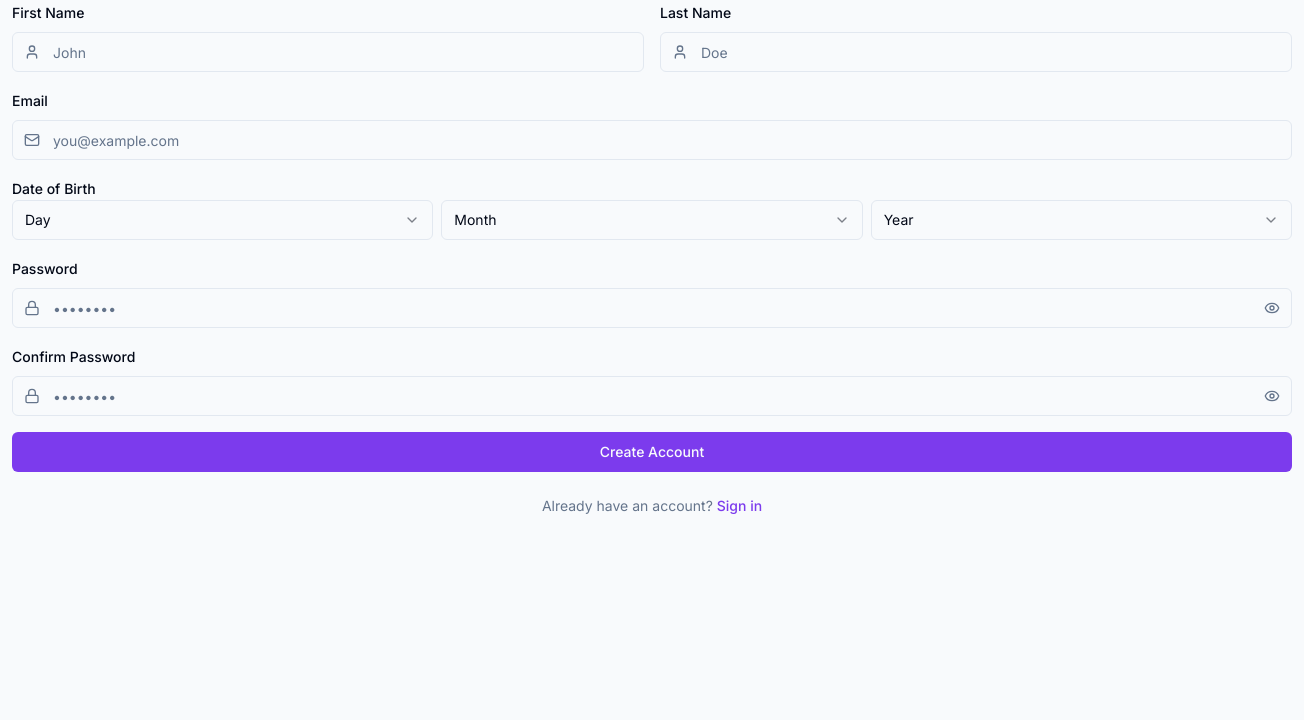
Test: SignupForm › should show an error if passwords do not match
This screenshot has width=1304, height=720.
In the password field labelled "Password": (652,308) [12,288,1292,328], type "Password123!"
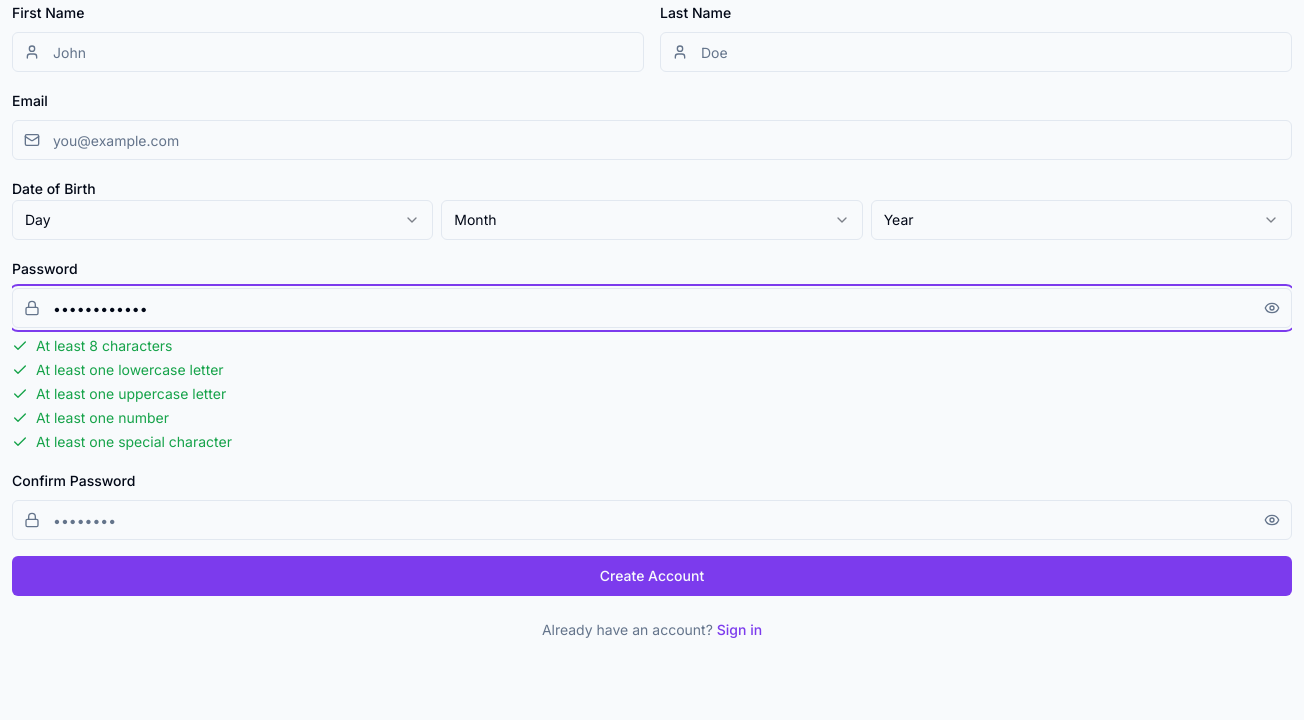
In the password field labelled "Confirm Password": (652,520) [12,500,1292,540], type "PasswordDoesNotMatch123!"
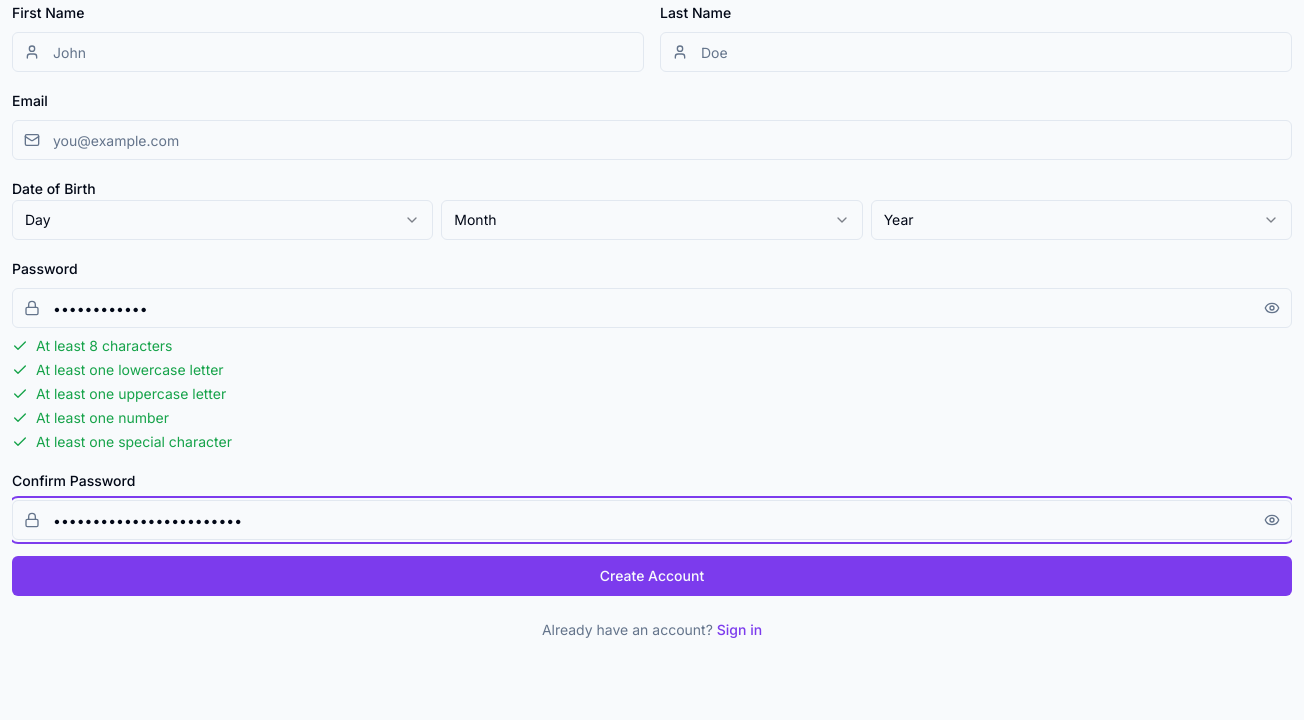
Click the button "Create Account": (652,576) [12,556,1292,596]
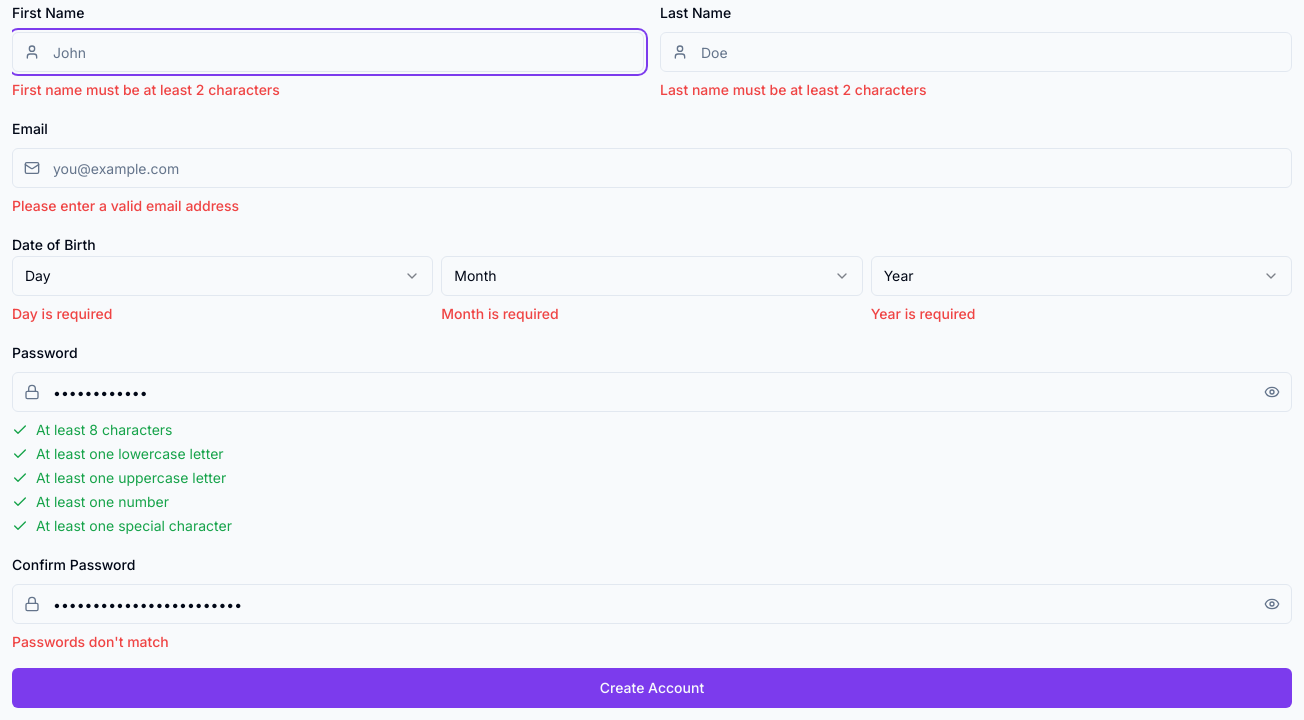
Result: the text "Passwords don't match" is shown at [12,633,169,650]
